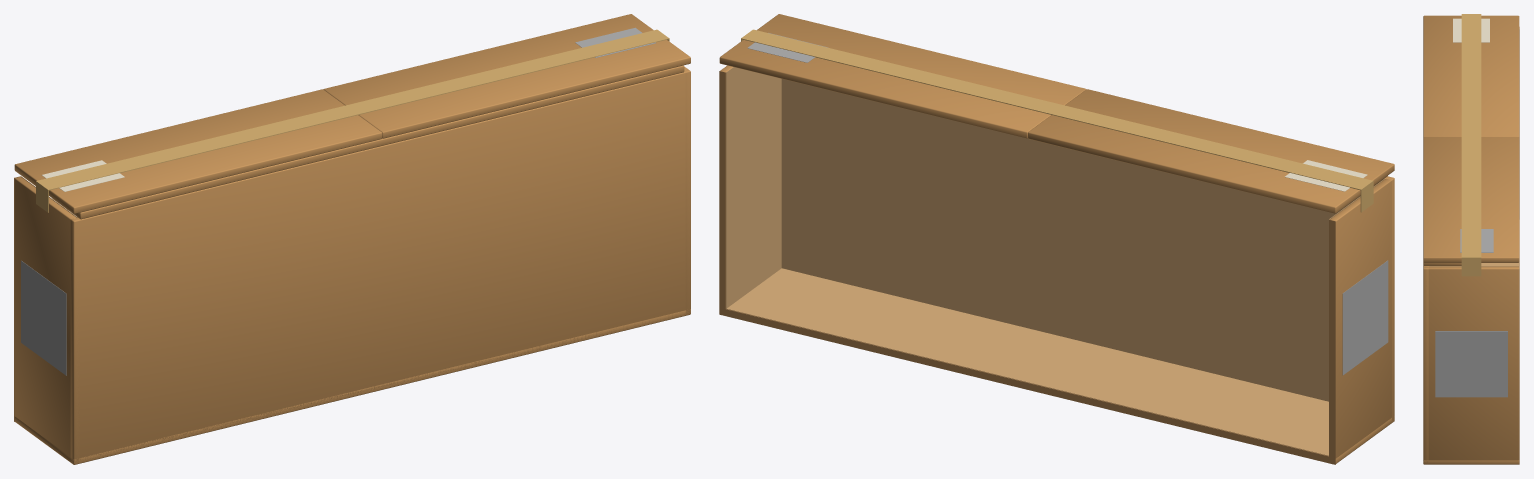
3 views of the same model, side by side, from view 1: azimuth 30°, elevation 25°; view 2: azimuth 150°, elevation 25°; view 3: azimuth 270°, elevation 25° (orthographic). The views are drawn at different scales.
Parts seen in each view (by area): view 1: box_8x3, FlapR, FlapL, Tape, FlapB; view 2: box_8x3, FlapR, FlapL, Tape; view 3: box_8x3, FlapL, FlapR, Tape.
Part boxes in pixels (x1,y1,x2,y2): box_8x3: (14,66,690,464); FlapR: (14,89,382,213); FlapL: (323,14,690,138); Tape: (36,29,669,212); FlapB: (52,65,684,219); box_8x3: (719,65,1394,464); FlapR: (1028,89,1394,213); FlapL: (719,14,1086,138); Tape: (741,29,1373,212); box_8x3: (1423,27,1519,464); FlapL: (1423,137,1519,262); FlapR: (1423,15,1519,137); Tape: (1461,14,1481,276).
Bounding box in the file's own units: 2.06 × 0.8185 × 0.3428.
